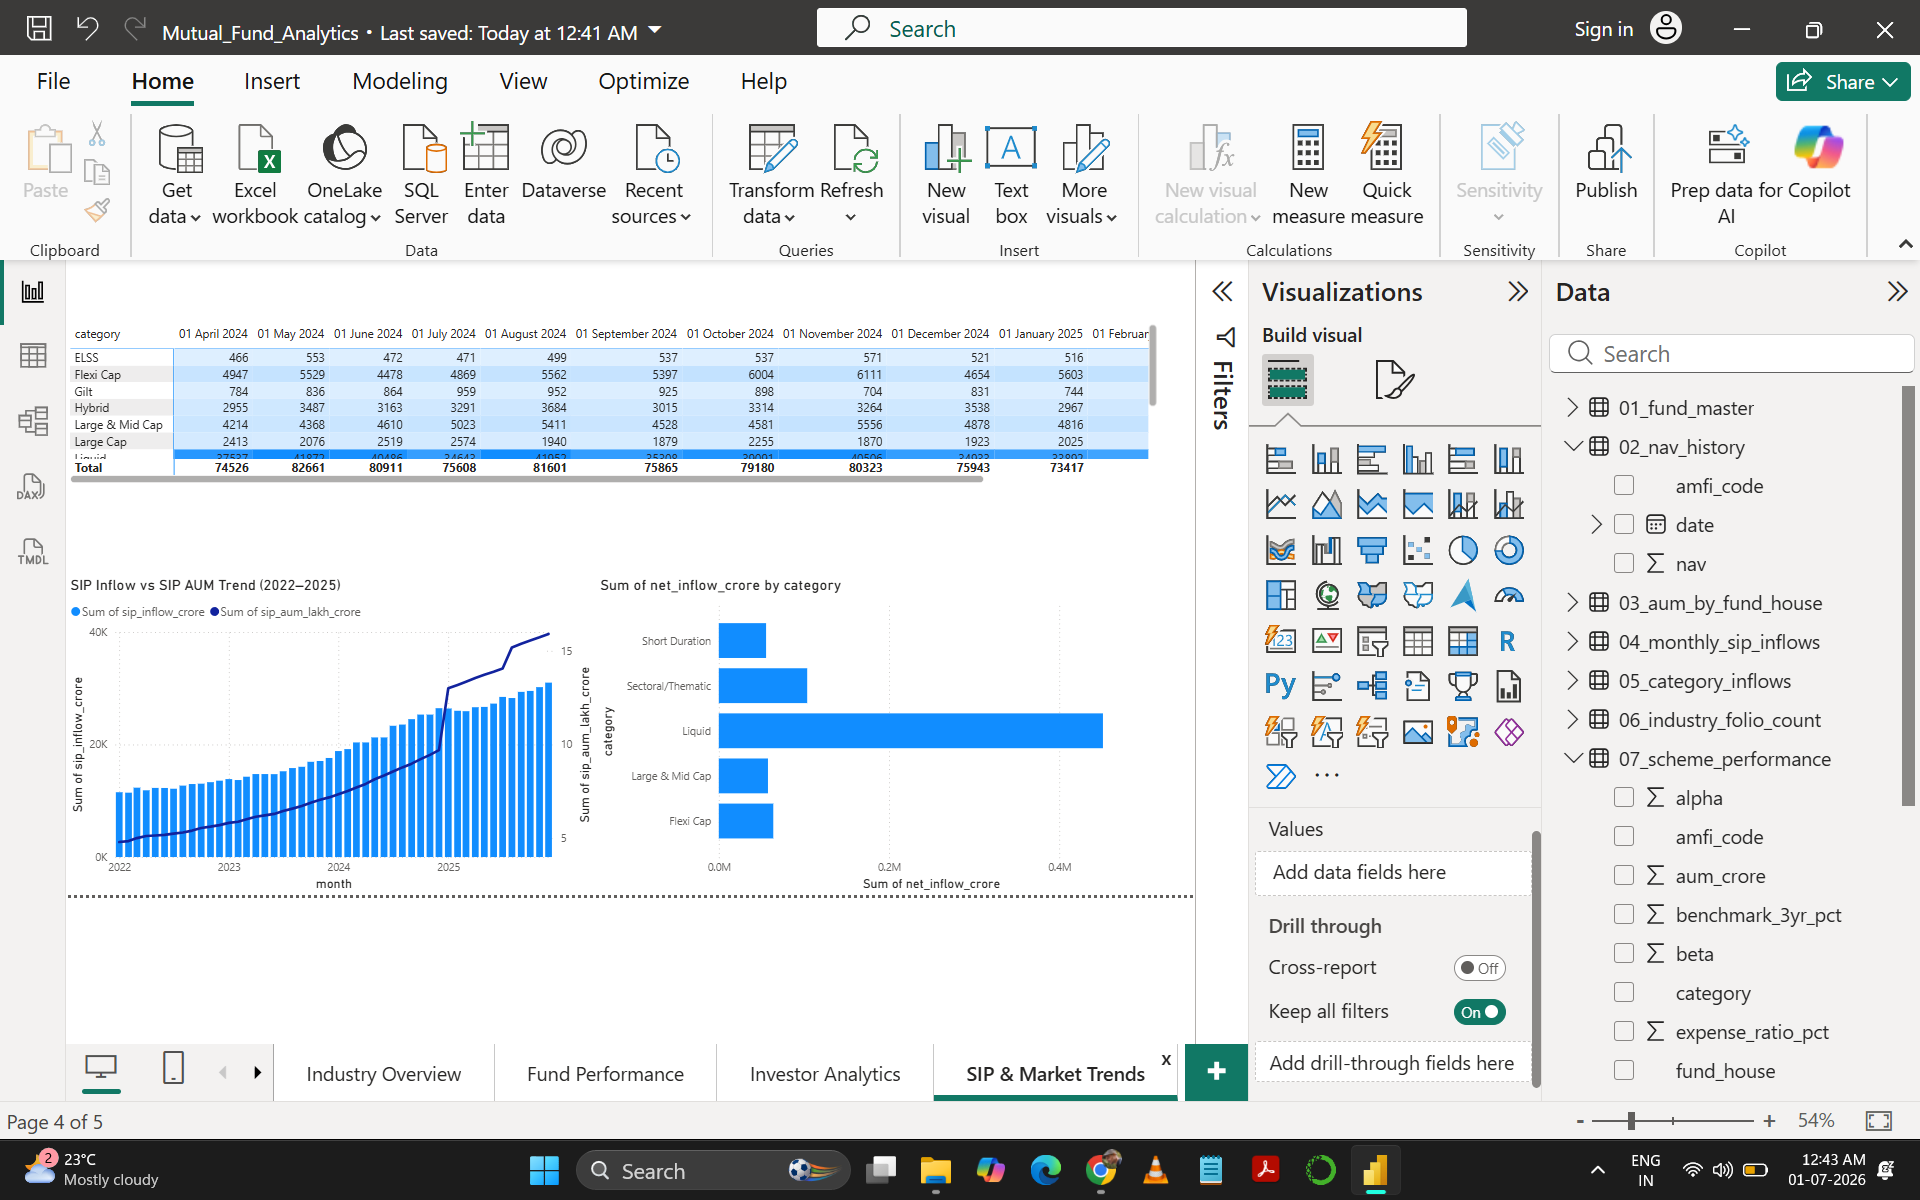

What the dashboard file says about the page in this screenshot:
{"tool":"powerbi","page":{"name":"SIP & Market Trends","canvas":[1280,720],"ordinal":3},"visuals":[{"type":"lineClusteredColumnComboChart","title":"SIP Inflow vs SIP AUM Trend (2022–2025)","fields":{"Y":["Sum(04_monthly_sip_inflows.sip_inflow_crore)"],"Y2":["Sum(04_monthly_sip_inflows.sip_aum_lakh_crore)"],"Category":["04_monthly_sip_inflows.month"]},"box":[0,359.3,600.7,361.1],"z":0},{"type":"pivotTable","fields":{"Rows":["05_category_inflows.category"],"Columns":["05_category_inflows.month"],"Values":["Sum(05_category_inflows.net_inflow_crore)"]},"box":[0,68.2,1241.9,189.8],"z":1000},{"type":"clusteredBarChart","fields":{"Category":["05_category_inflows.category"],"Y":["Sum(05_category_inflows.net_inflow_crore)"]},"box":[600.7,359.3,641.2,361.1],"z":2000}]}

Visuals, with their boxes on the page's 1280x720 design canvas (x1, y1, x2, y2). These are canvas units, not pixel positions in the 1920x1200 screenshot, which may show the page scaled, cropped or inside an application window:
"SIP Inflow vs SIP AUM Trend (2022–2025)" lineClusteredColumnComboChart: box=[0, 359, 601, 720]
pivotTable - 05_category_inflows.category x 05_category_inflows.month: box=[0, 68, 1242, 258]
clusteredBarChart - 05_category_inflows.category x Sum(05_category_inflows.net_inflow_crore): box=[601, 359, 1242, 720]
